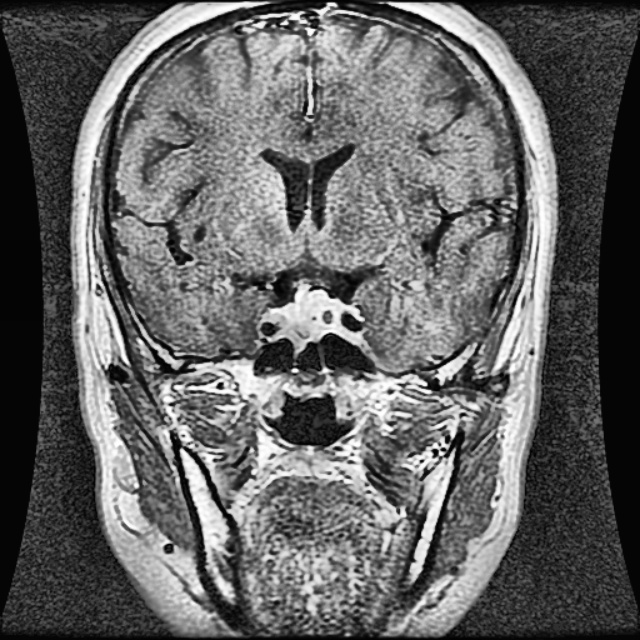Pituitary: (268, 285, 343, 349)
